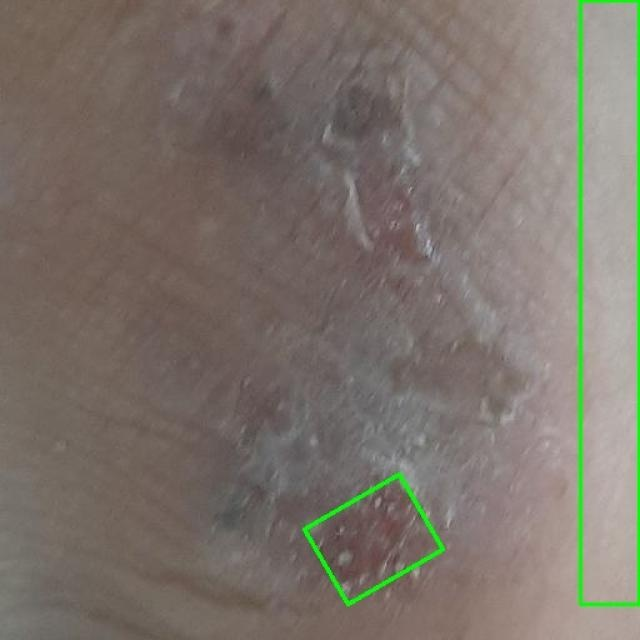Eczema: (580, 0, 639, 605), (304, 474, 443, 605)
